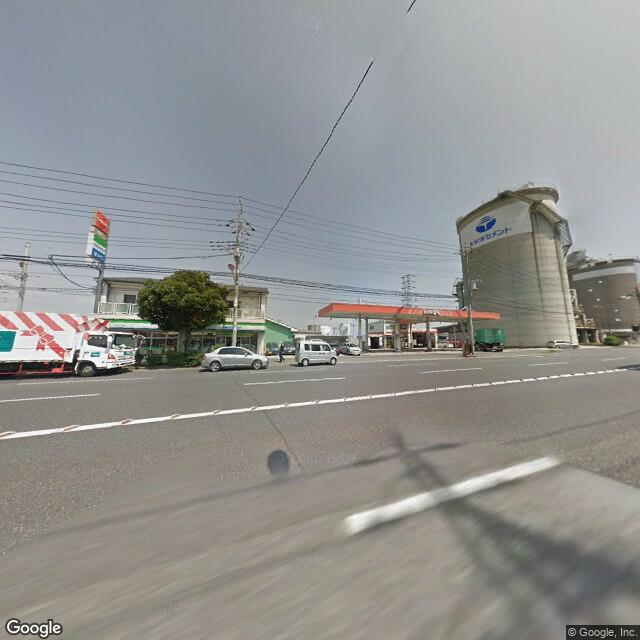family_mart: (89, 233, 108, 260)
